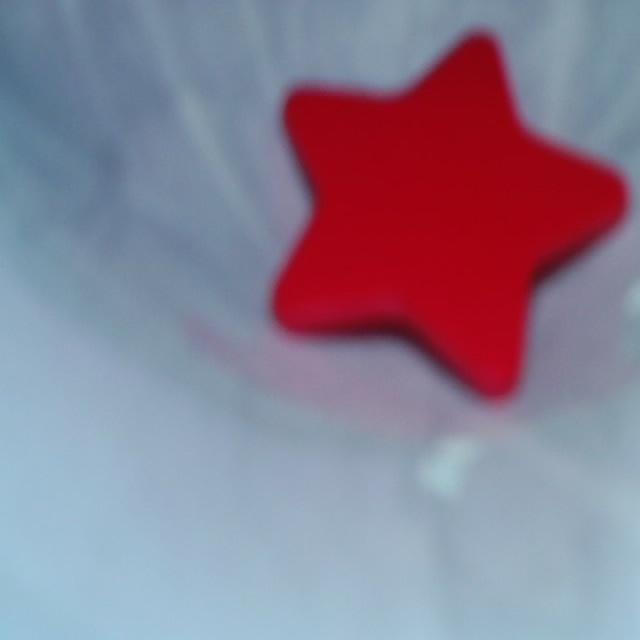star: (273, 36, 626, 399)
